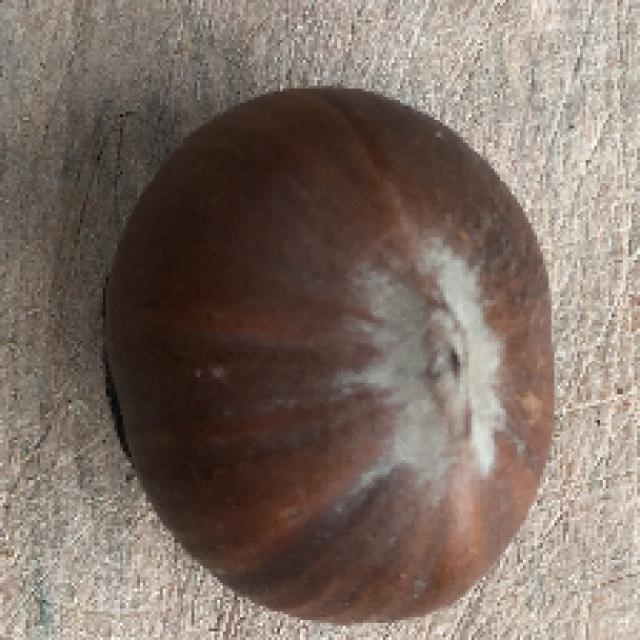DamagedHazelnut: (104, 89, 556, 624)
